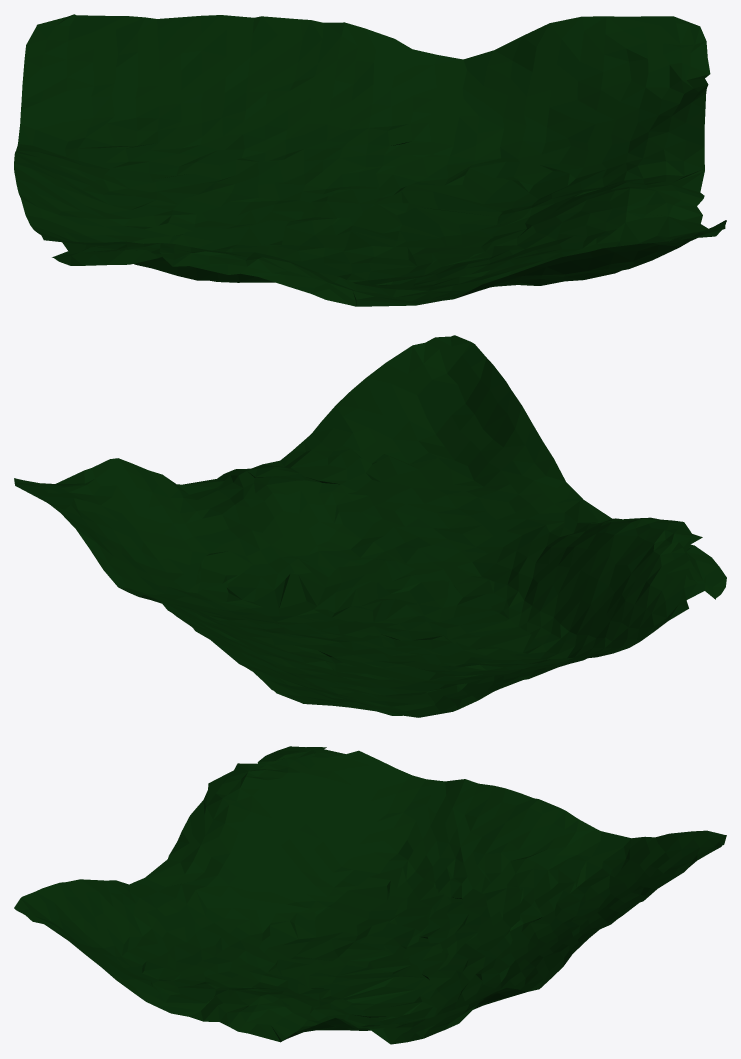
The model's file is chao_background.fbx.
The picture shows the model from 3 angles, top to bottom: view 1: azimuth 30°, elevation 25°; view 2: azimuth 150°, elevation 25°; view 3: azimuth 270°, elevation 25°; orthographic projection. The views are drawn at different scales.
Parts seen in each view (by area): view 1: 1; view 2: 1; view 3: 1.
Part boxes in pixels (x1=…): 1: x1=14, y1=14, x2=726, y2=306; 1: x1=14, y1=335, x2=726, y2=717; 1: x1=14, y1=746, x2=726, y2=1044.
Bounding box in the file's own units: 13889 × 2322 × 14276.
